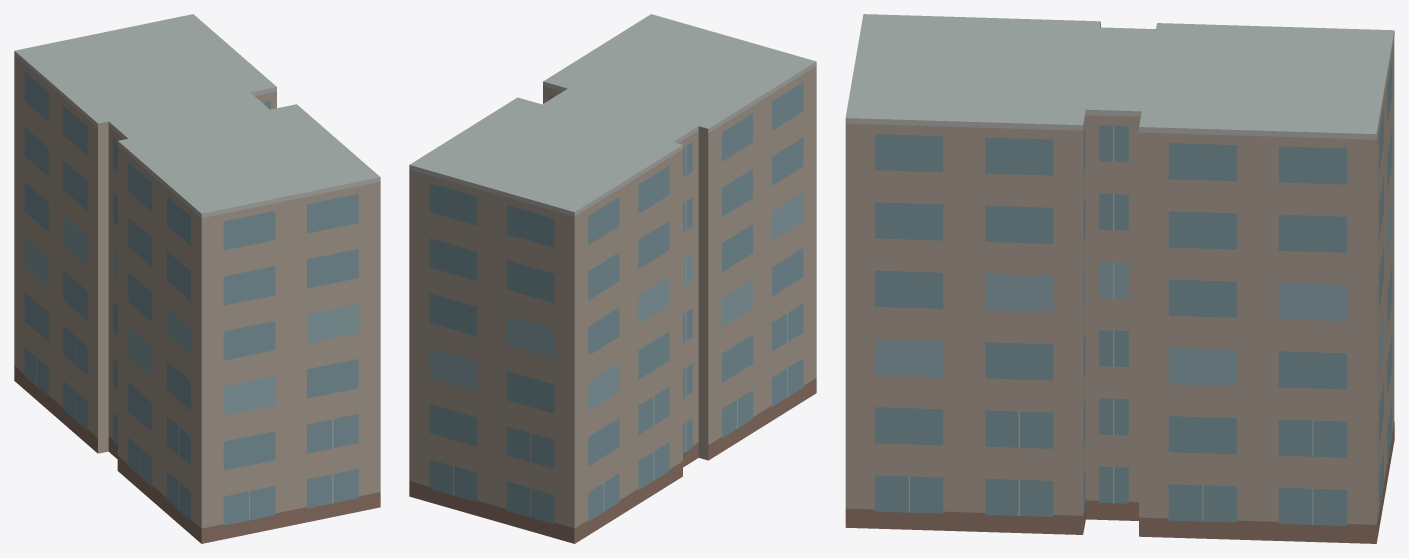
The model's file is survey-upis-32671885.glb.
3 renders of one model, left to right at view 1: azimuth 30°, elevation 25°; view 2: azimuth 150°, elevation 25°; view 3: azimuth 270°, elevation 25°, orthographic. The views are drawn at different scales.
Parts seen in each view (by area): view 1: survey-upis-32671885.tmp; view 2: survey-upis-32671885.tmp; view 3: survey-upis-32671885.tmp.
Part boxes in pixels (left/top/right/bottom): survey-upis-32671885.tmp: left=14, top=14, right=380, bottom=543; survey-upis-32671885.tmp: left=409, top=14, right=816, bottom=543; survey-upis-32671885.tmp: left=845, top=14, right=1394, bottom=543.
Bounding box in the file's own units: 11.43 × 18.15 × 22.05.
